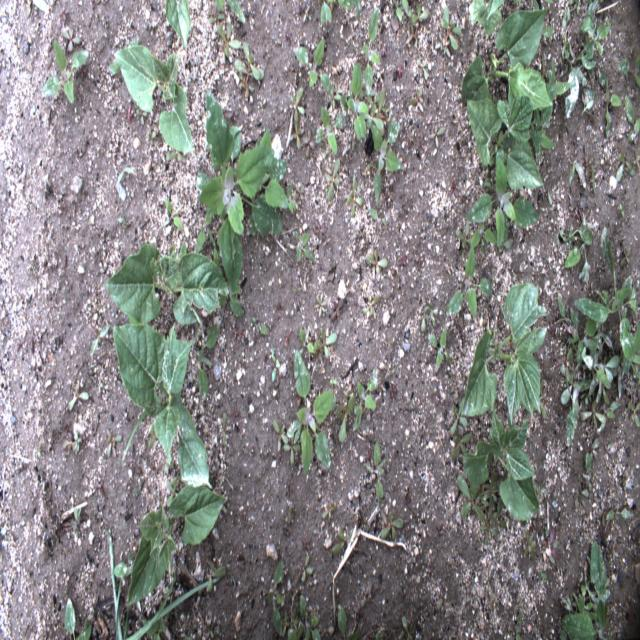crop: (112, 322, 212, 491), (460, 282, 549, 426), (126, 485, 227, 605), (103, 240, 230, 326), (462, 5, 554, 115), (109, 43, 193, 154), (462, 402, 540, 521), (466, 88, 544, 188), (166, 0, 190, 54), (469, 0, 504, 36)
weed: (196, 88, 288, 298), (573, 224, 640, 381), (463, 156, 542, 251), (558, 295, 620, 406), (294, 349, 334, 474), (562, 538, 610, 639), (444, 237, 495, 318), (369, 119, 407, 212), (558, 362, 597, 448), (42, 36, 90, 103), (563, 38, 596, 120), (292, 36, 333, 100), (554, 222, 592, 288), (346, 59, 369, 141), (235, 40, 264, 99), (363, 436, 387, 506), (363, 4, 381, 97), (354, 364, 378, 432), (267, 556, 287, 636), (598, 70, 620, 140), (315, 106, 345, 156), (456, 473, 484, 524), (199, 323, 217, 401), (436, 6, 461, 57), (296, 594, 323, 640), (64, 596, 92, 640), (195, 198, 215, 259), (427, 325, 452, 373), (581, 16, 610, 57), (406, 0, 430, 47), (580, 396, 606, 431), (216, 22, 240, 59), (618, 52, 640, 92), (339, 391, 355, 442), (314, 325, 336, 359), (165, 196, 184, 234), (379, 510, 403, 540), (347, 173, 362, 220), (293, 230, 314, 262), (325, 158, 340, 202), (451, 432, 472, 463), (284, 428, 300, 468), (366, 247, 388, 274), (291, 87, 305, 122), (290, 113, 303, 149)
